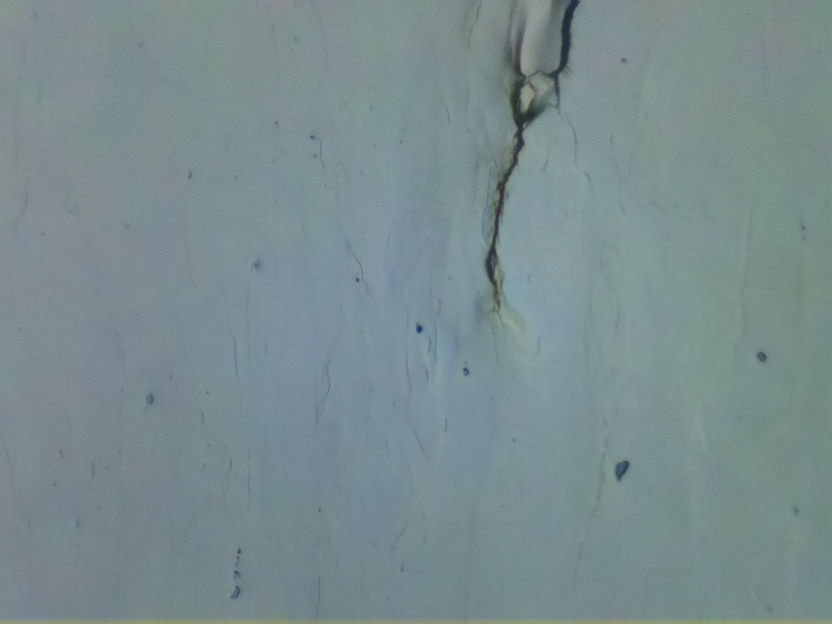crack: (483, 0, 579, 305)
